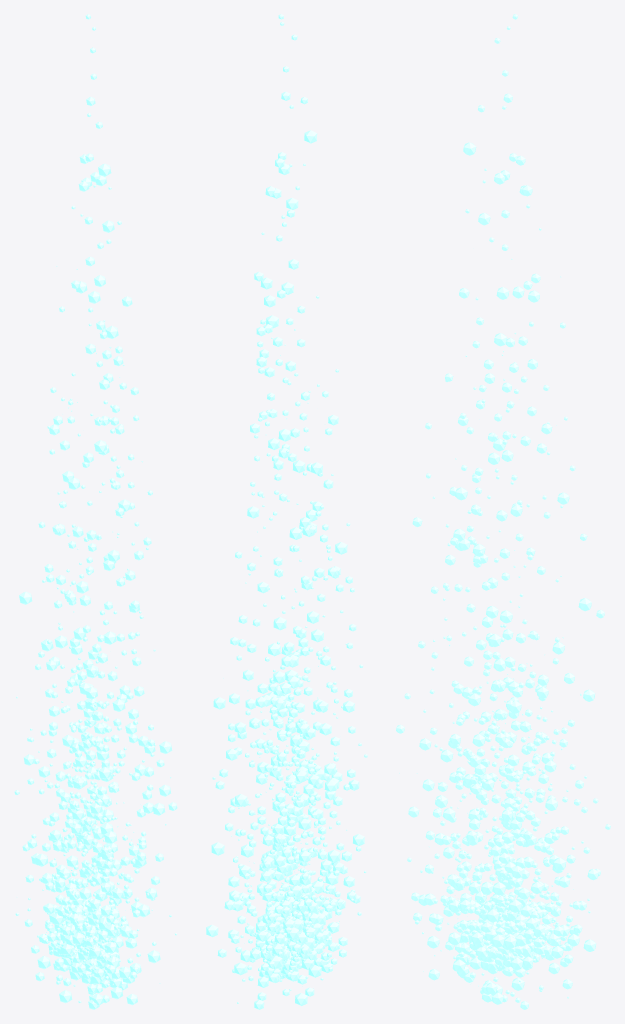
Rendered from star2-optimize.glb.
3 renders of one model, left to right at view 1: azimuth 30°, elevation 25°; view 2: azimuth 150°, elevation 25°; view 3: azimuth 270°, elevation 25°, orthographic.
Parts seen in each view (by area): view 1: Sphere.005; view 2: Sphere.005; view 3: Sphere.005.
Boxes of the visible parts, x1,y1,x2,y2 form: Sphere.005: [14, 14, 177, 1009]; Sphere.005: [206, 14, 367, 1009]; Sphere.005: [396, 14, 610, 1009].
Bounding box in the file's own units: 0.5577 × 4.83 × 0.9515.
